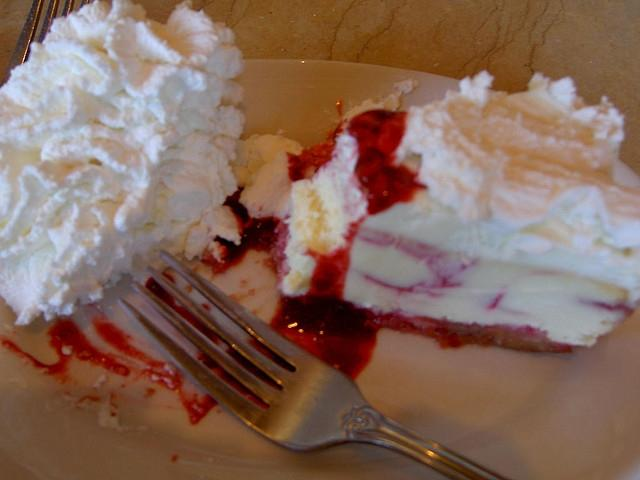strawberry: (302, 216, 364, 300), (288, 139, 336, 181)
